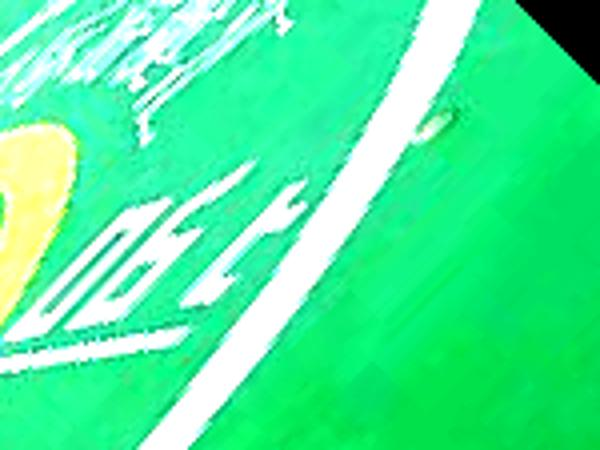Apron: (1, 119, 80, 340)
